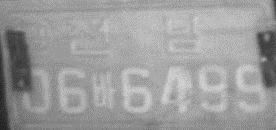0: (21, 66, 51, 115)
4: (159, 66, 191, 114)
6: (120, 67, 153, 115), (56, 66, 88, 113)
9: (197, 64, 231, 113), (235, 64, 268, 113)
바: (90, 70, 115, 109)
영: (15, 14, 55, 55)
전남_D: (66, 16, 202, 55)
